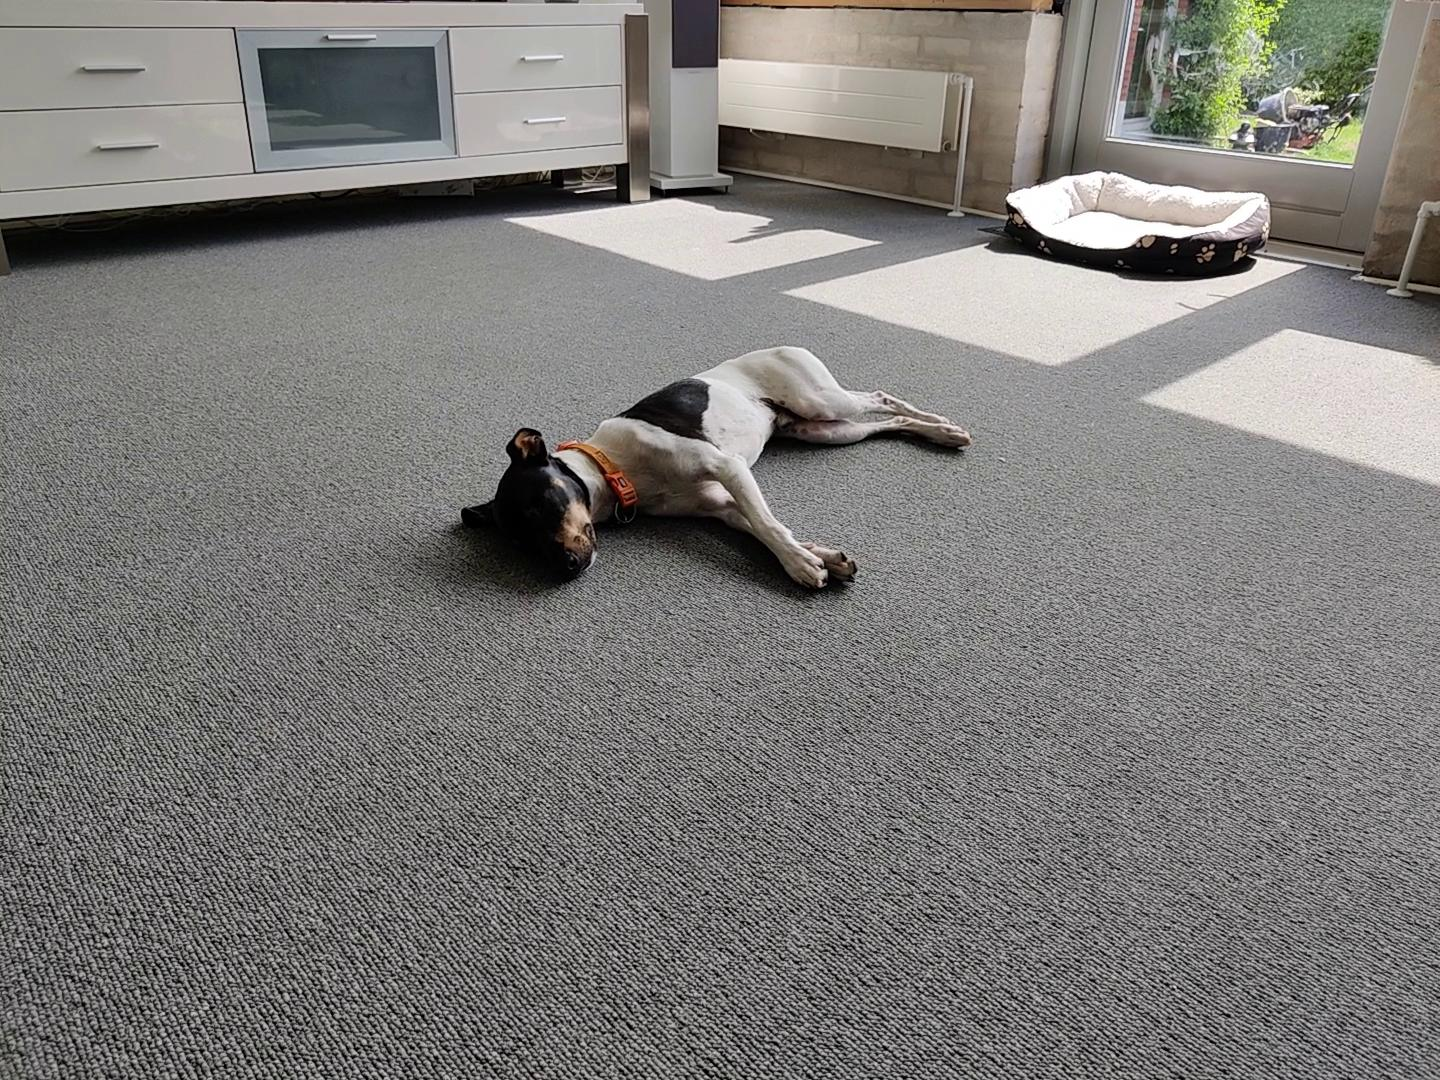Dog: (451, 336, 977, 597)
